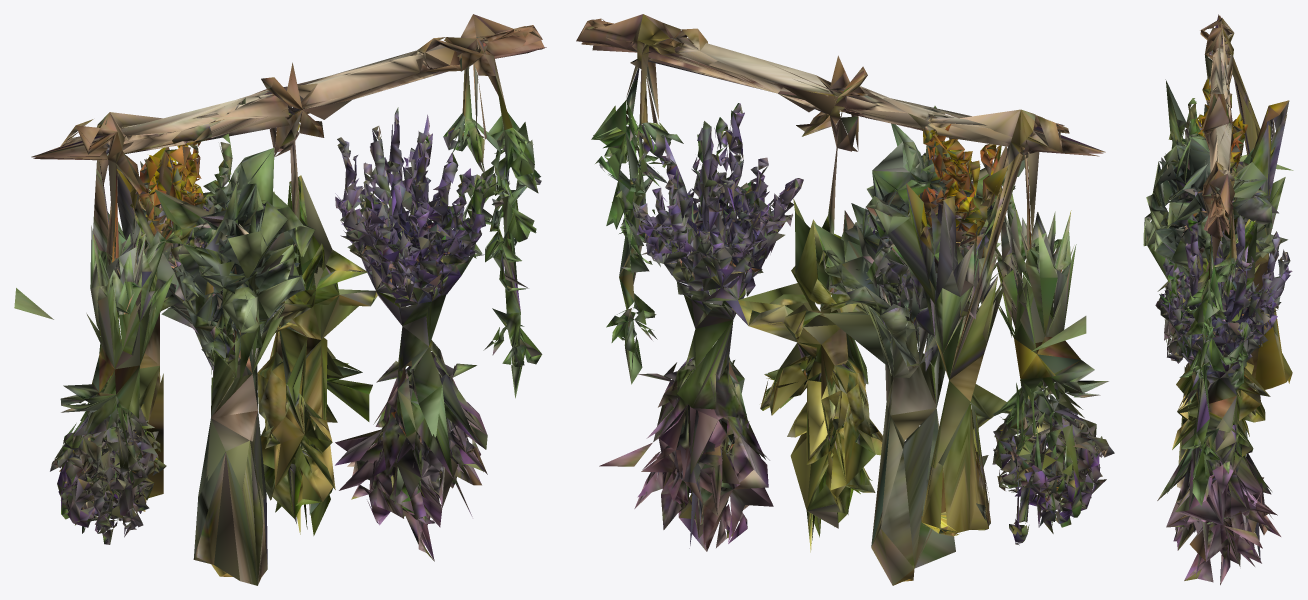
File: Herbal_Harvest_town.glb
The picture shows the model from 3 angles, left to right: view 1: azimuth 30°, elevation 25°; view 2: azimuth 150°, elevation 25°; view 3: azimuth 270°, elevation 25°; orthographic projection. The views are drawn at different scales.
Parts seen in each view (by area): view 1: Herbal_Harvest; view 2: Herbal_Harvest; view 3: Herbal_Harvest.
Boxes of the visible parts, <box> form: Herbal_Harvest: <box>14,14,546,585</box>; Herbal_Harvest: <box>576,14,1114,585</box>; Herbal_Harvest: <box>1143,14,1293,585</box>.
Bounding box in the file's own units: 1.87 × 1.81 × 0.5646.
Materials: 1 (1 with a texture image).
